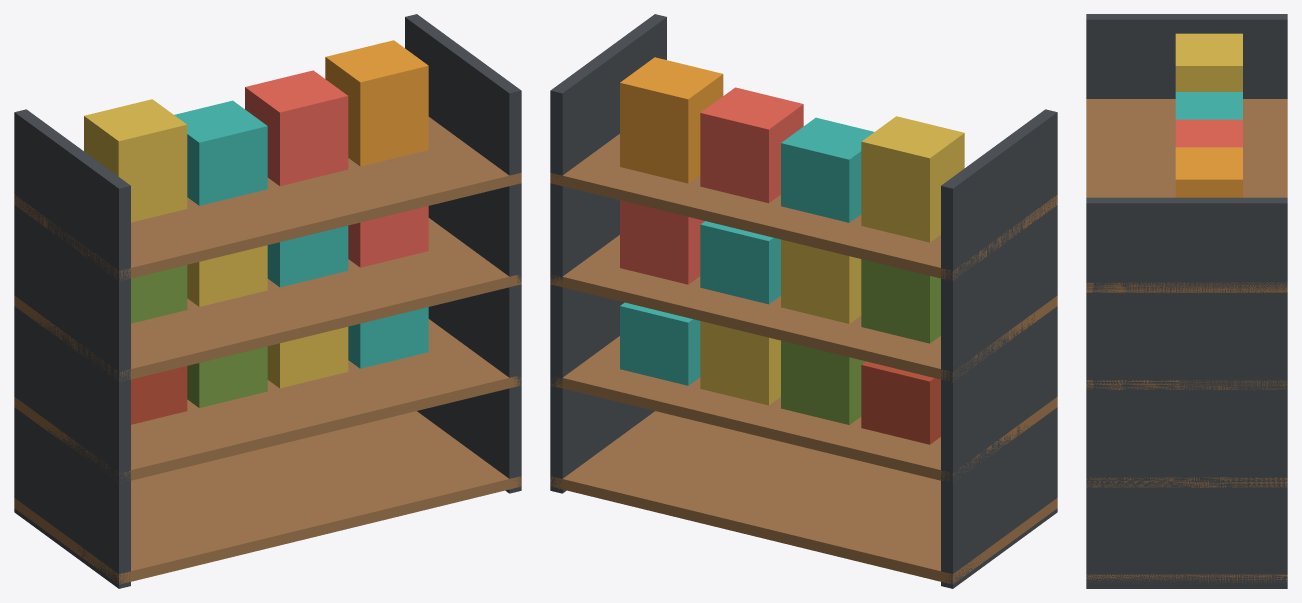
File: interior.shelf-stock.glb
3 renders of one model, left to right at view 1: azimuth 30°, elevation 25°; view 2: azimuth 150°, elevation 25°; view 3: azimuth 270°, elevation 25°, orthographic. The views are drawn at different scales.
Visible parts, largest first — view 1: interior.shelf-stock; view 2: interior.shelf-stock; view 3: interior.shelf-stock.
Boxes of the visible parts, x1=… form: interior.shelf-stock: x1=14, y1=14, x2=521, y2=588; interior.shelf-stock: x1=550, y1=14, x2=1057, y2=588; interior.shelf-stock: x1=1086, y1=14, x2=1287, y2=588.
Size of the model in its own units: 2 by 1.91 by 0.9.
